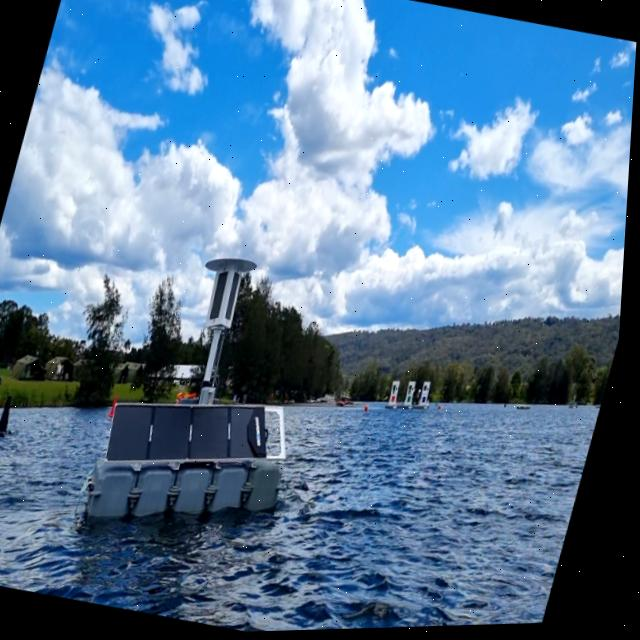led: (207, 271, 235, 324), (223, 272, 247, 325)
